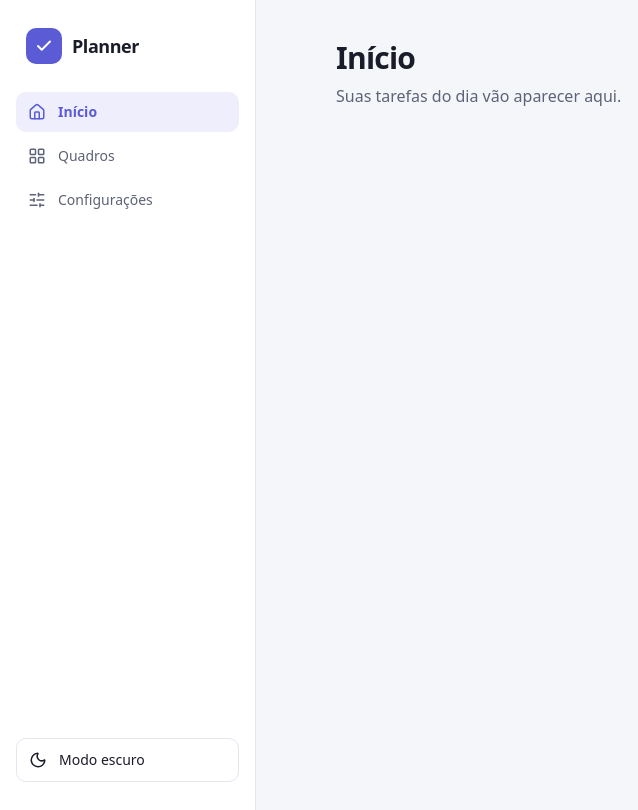
Test case: app layout › navigates to the boards page from the menu
Click the link "Quadros" at (71, 156), box [28,146,115,165]
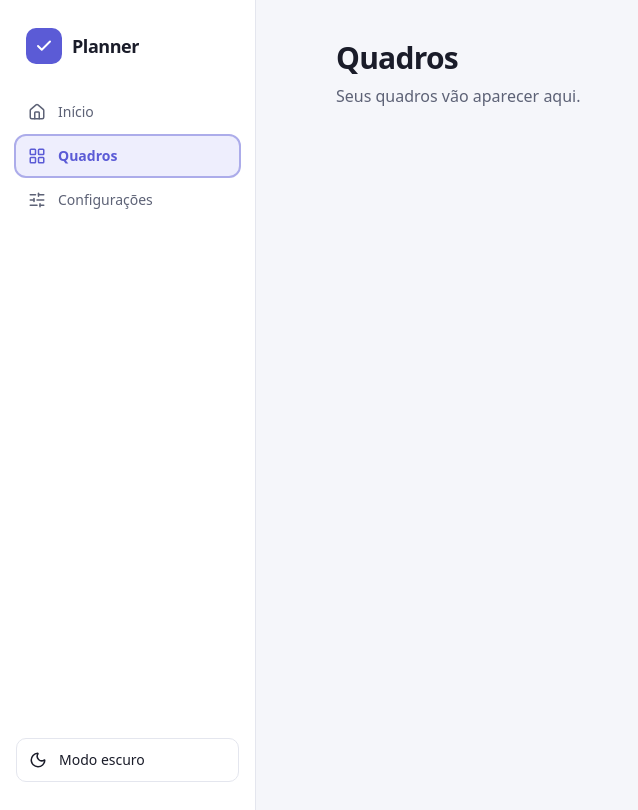
Result: the heading "Quadros" is shown at [336,37,458,78]
